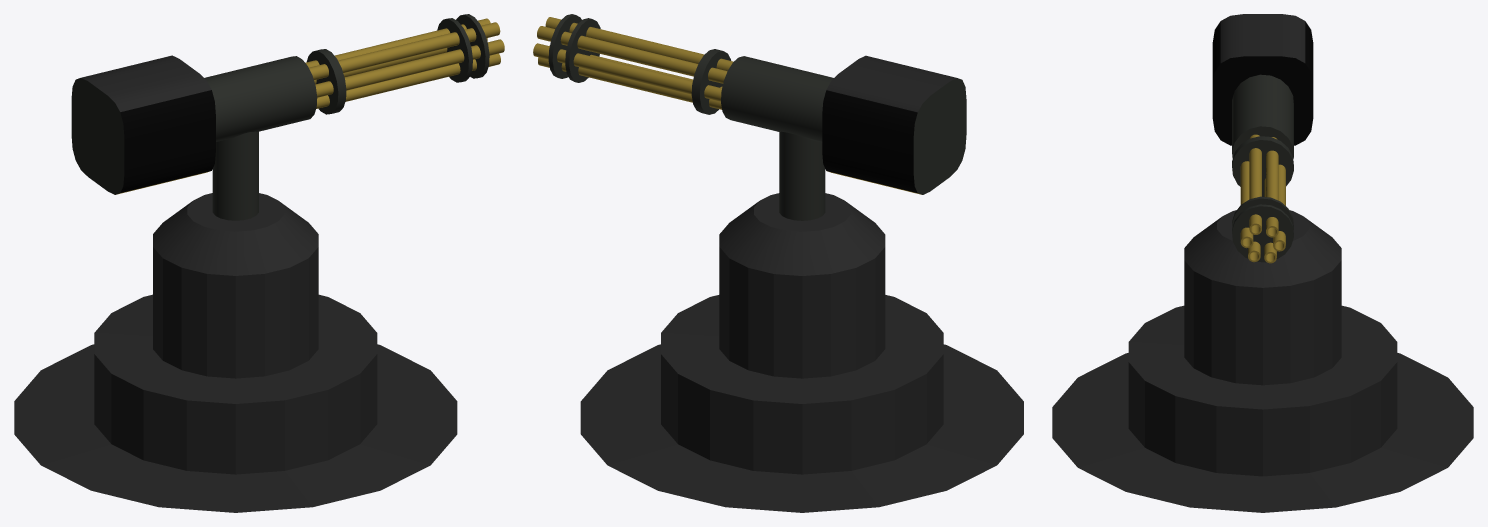
File: tourelle.fbx
3 views of the same model, side by side, from view 1: azimuth 30°, elevation 25°; view 2: azimuth 150°, elevation 25°; view 3: azimuth 270°, elevation 25° (orthographic). The views are drawn at different scales.
Parts seen in each view (by area): view 1: Cylindre006, Boîte002, Cylindre001, Cylindre005, Tube004, Tube006, Tube005, Cylindre003, Cylindre002, Tube003, Cylindre004; view 2: Cylindre006, Boîte002, Cylindre001, Cylindre005, Tube001, Tube003, Tube004, Tube002, Cylindre003, Cylindre002, Cylindre004; view 3: Cylindre006, Boîte002, Cylindre001, Cylindre004, Cylindre003, Tube004, Tube003, Tube006, Cylindre002, Tube001.
Part boxes in pixels (x1=…): Cylindre006: x1=14, y1=193, x2=457, y2=512; Boîte002: x1=71, y1=55, x2=215, y2=194; Cylindre001: x1=204, y1=56, x2=317, y2=141; Cylindre005: x1=212, y1=131, x2=258, y2=220; Tube004: x1=309, y1=22, x2=500, y2=80; Tube006: x1=315, y1=39, x2=504, y2=97; Tube005: x1=316, y1=53, x2=500, y2=108; Cylindre003: x1=306, y1=49, x2=346, y2=114; Cylindre002: x1=437, y1=18, x2=472, y2=82; Tube003: x1=305, y1=18, x2=490, y2=67; Cylindre004: x1=456, y1=14, x2=489, y2=78; Cylindre006: x1=580, y1=193, x2=1023, y2=512; Boîte002: x1=822, y1=55, x2=966, y2=194; Cylindre001: x1=721, y1=56, x2=833, y2=142; Cylindre005: x1=779, y1=131, x2=825, y2=220; Tube001: x1=533, y1=43, x2=721, y2=101; Tube003: x1=537, y1=26, x2=727, y2=83; Tube004: x1=545, y1=17, x2=733, y2=70; Tube002: x1=538, y1=57, x2=721, y2=109; Cylindre003: x1=691, y1=49, x2=731, y2=114; Cylindre002: x1=565, y1=18, x2=600, y2=82; Cylindre004: x1=548, y1=14, x2=581, y2=78; Cylindre006: x1=1052, y1=210, x2=1473, y2=512; Boîte002: x1=1212, y1=14, x2=1313, y2=145; Cylindre001: x1=1232, y1=74, x2=1293, y2=158; Cylindre004: x1=1232, y1=204, x2=1293, y2=262; Cylindre003: x1=1232, y1=136, x2=1293, y2=195; Tube004: x1=1249, y1=134, x2=1261, y2=234; Tube003: x1=1266, y1=137, x2=1278, y2=237; Tube006: x1=1240, y1=161, x2=1253, y2=248; Cylindre002: x1=1232, y1=196, x2=1293, y2=229; Tube001: x1=1273, y1=164, x2=1285, y2=251.
Size of the model in its own units: 11.07 by 8.49 by 9.4.
